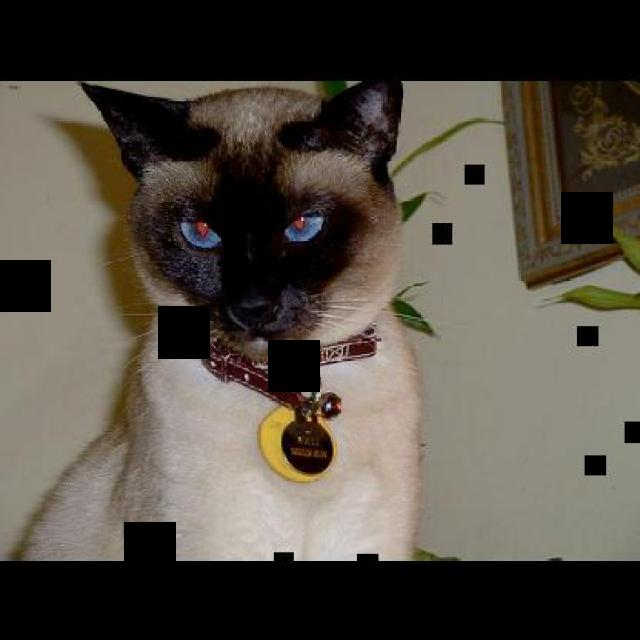unauthorized: (9, 75, 434, 560)
